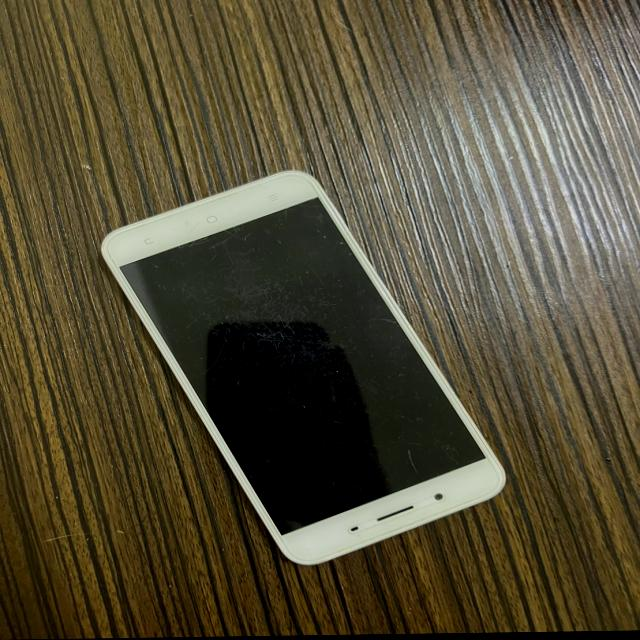Smartphone: (61, 150, 536, 593)
